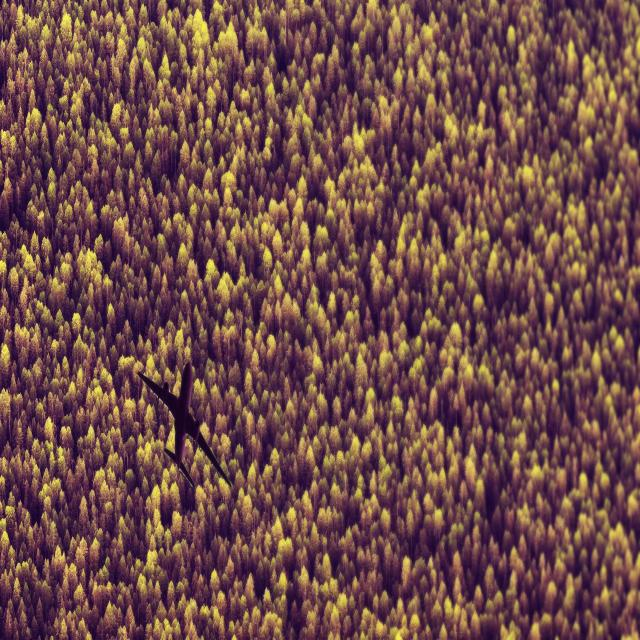airplane: (137, 360, 233, 490)
